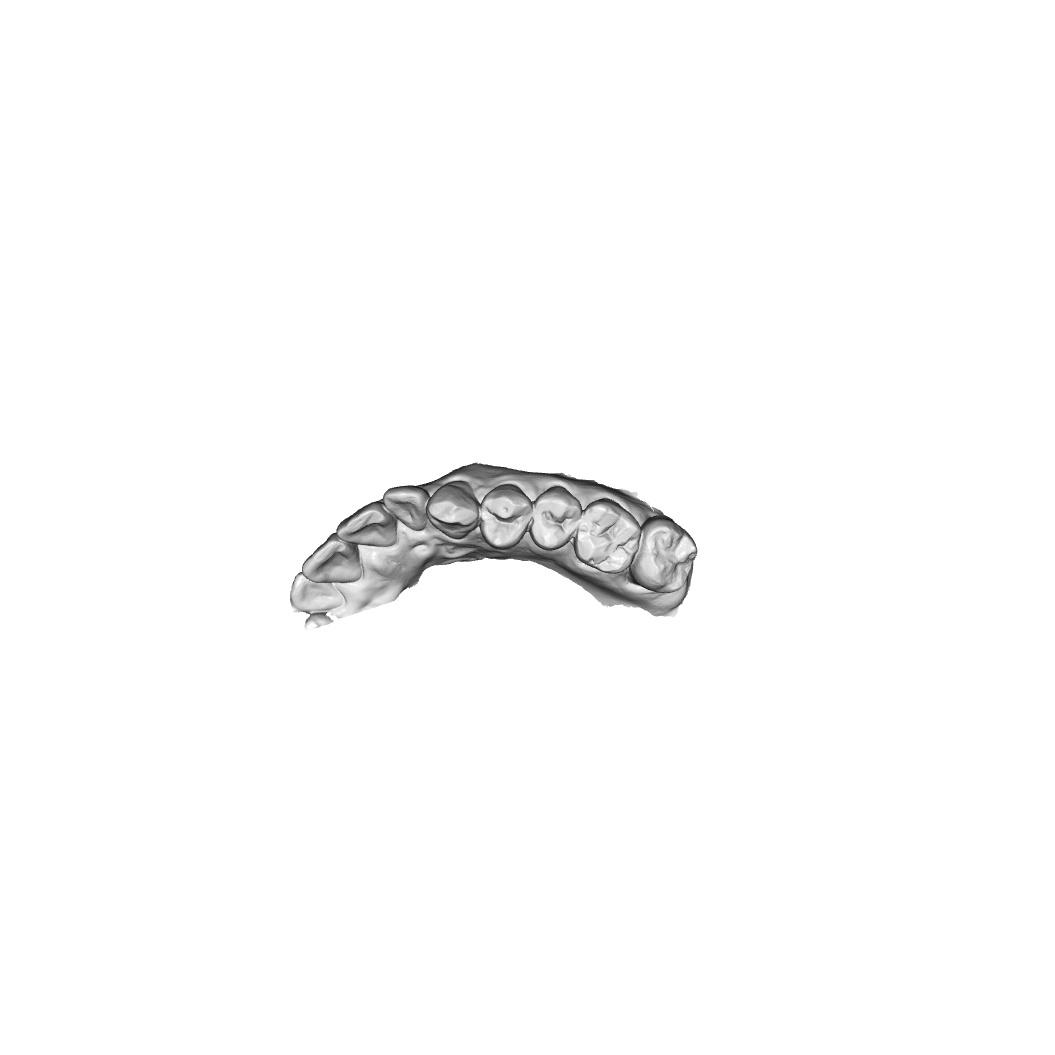canine: (426, 479, 480, 541)
incisor: (300, 533, 363, 584), (334, 500, 399, 548), (289, 572, 345, 616), (381, 485, 428, 532)
molar: (629, 515, 699, 594), (573, 496, 641, 575)
premolar: (528, 484, 584, 551), (479, 483, 533, 550)
